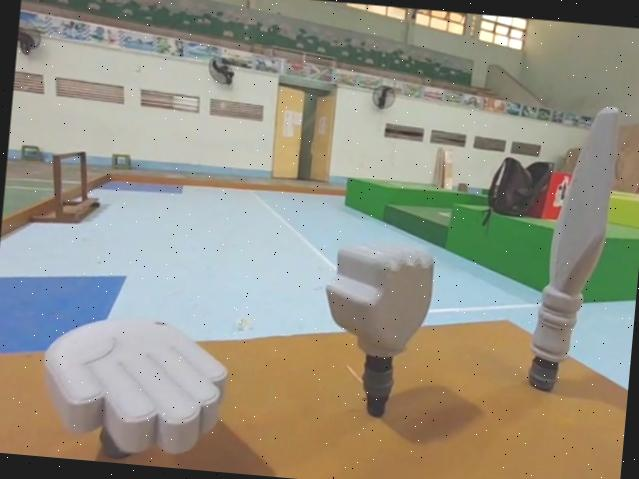Fist: (317, 234, 440, 423)
Hand: (37, 310, 231, 471)
Sph: (522, 98, 624, 400)
